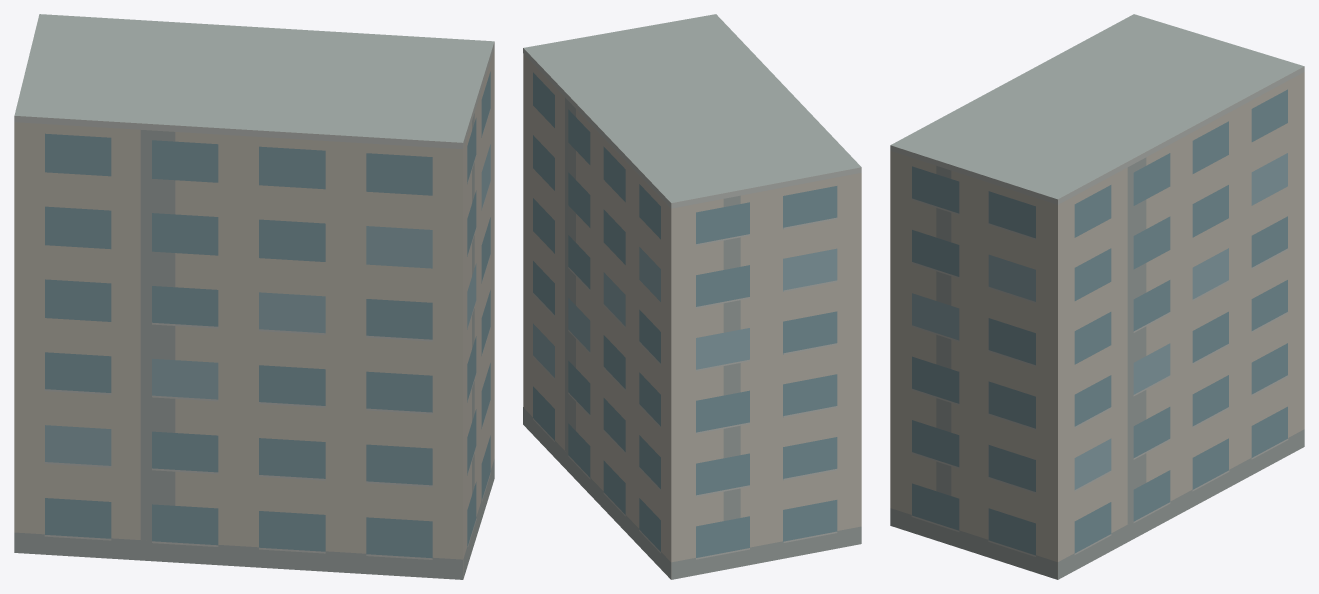
File: survey-upis-32867583.glb
The picture shows the model from 3 angles, left to right: view 1: azimuth 30°, elevation 25°; view 2: azimuth 150°, elevation 25°; view 3: azimuth 270°, elevation 25°; orthographic projection. The views are drawn at different scales.
Visible parts, largest first — view 1: survey-upis-32867583.tmp; view 2: survey-upis-32867583.tmp; view 3: survey-upis-32867583.tmp.
Part boxes in pixels (x1=…): survey-upis-32867583.tmp: x1=14, y1=14, x2=494, y2=579; survey-upis-32867583.tmp: x1=523, y1=14, x2=861, y2=579; survey-upis-32867583.tmp: x1=890, y1=14, x2=1304, y2=579.
Size of the model in its own units: 17.36 by 16.6 by 16.39.
